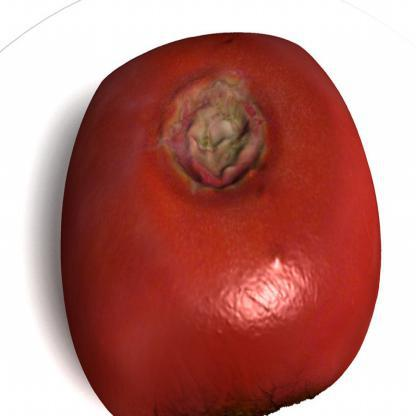tomato_rotten: (54, 15, 389, 415)
